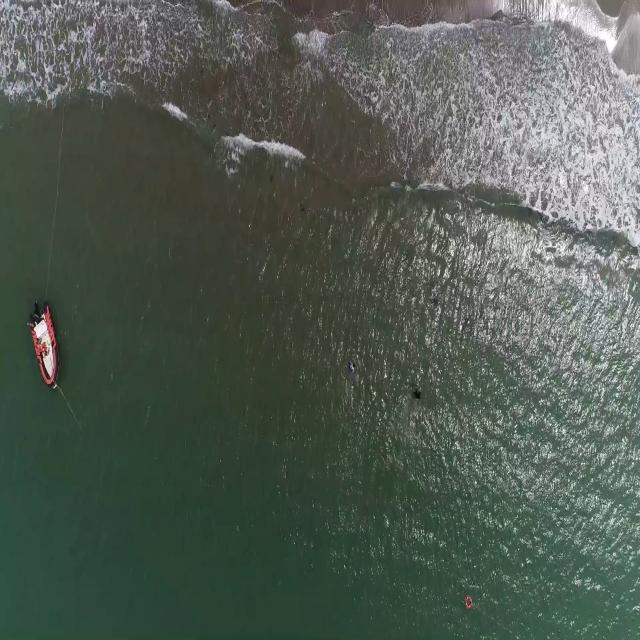boat: (30, 302, 60, 390)
life_buoy: (465, 595, 473, 610)
person: (412, 382, 423, 402), (348, 356, 358, 376)
